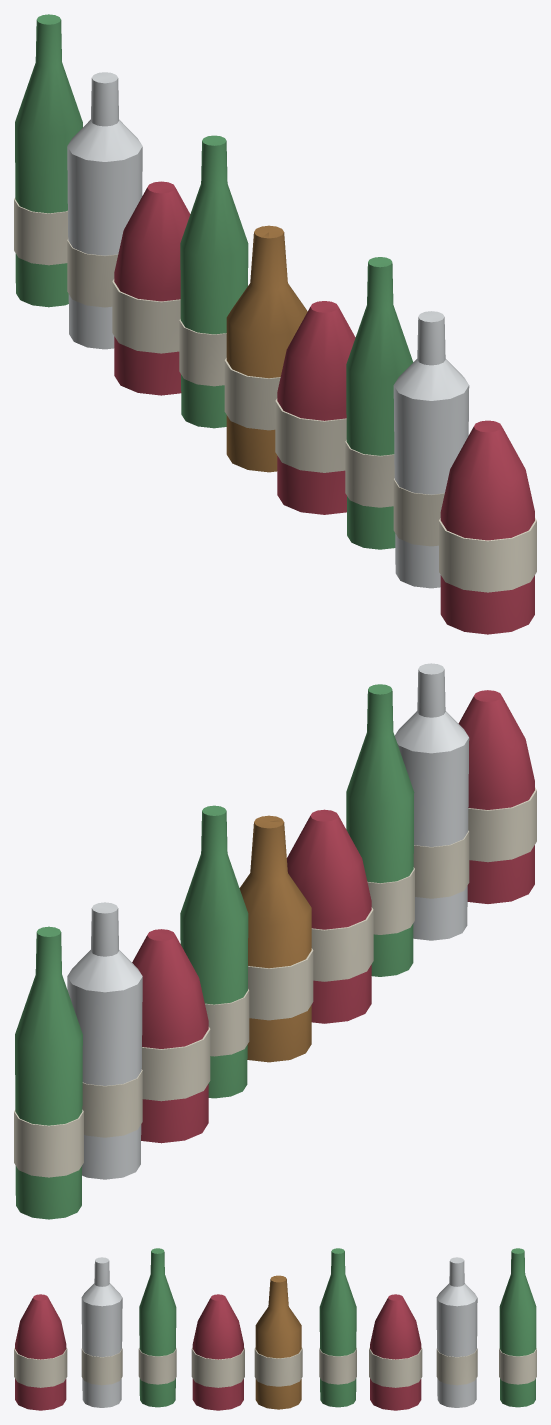
The model's file is bottles_row.glb.
3 renders of one model, top to bottom at view 1: azimuth 30°, elevation 25°; view 2: azimuth 150°, elevation 25°; view 3: azimuth 270°, elevation 25°, orthographic. The views are drawn at different scales.
Visible parts, largest first — view 1: boat_glassg, boat_glassr, boat_label2, boat_glassc, boat_glassb; view 2: boat_glassg, boat_glassr, boat_label2, boat_glassc, boat_glassb; view 3: boat_label2, boat_glassg, boat_glassr, boat_glassc, boat_glassb.
Boxes of the visible parts, x1,y1,x2,y2 form: boat_glassg: (15,14,413,549); boat_glassr: (114,181,534,634); boat_label2: (14,197,536,592); boat_glassc: (67,72,469,588); boat_glassb: (226,225,307,472); boat_glassg: (15,684,414,1219); boat_glassr: (132,690,534,1143); boat_label2: (14,787,536,1177); boat_glassc: (67,663,469,1179); boat_glassb: (239,815,311,1062); boat_label2: (14,1347,536,1387); boat_glassg: (139,1248,536,1407); boat_glassr: (15,1294,421,1410); boat_glassc: (81,1257,477,1407); boat_glassb: (255,1275,301,1409).
Bounding box in the file's own units: 0.104 × 0.32 × 1.02.
